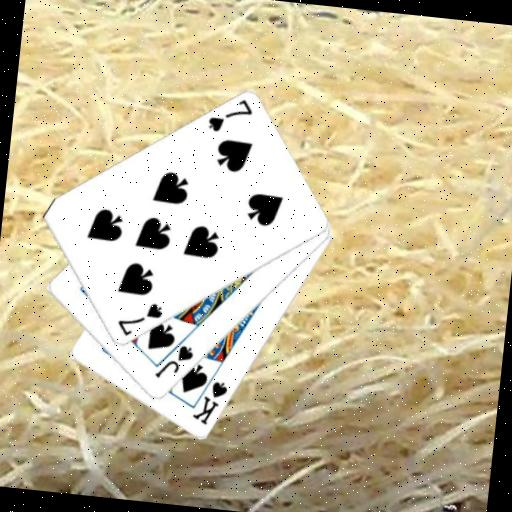7S: (114, 297, 166, 342), (204, 93, 255, 138)
JS: (151, 339, 196, 384)
KS: (188, 376, 230, 429)
